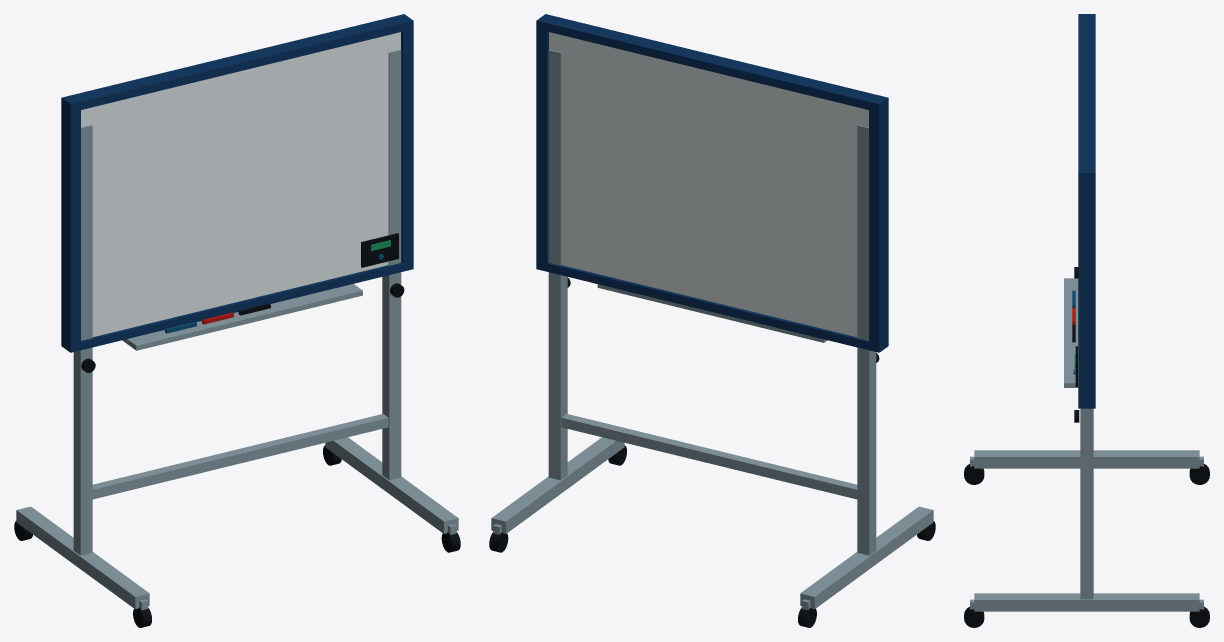
The model's file is electronic_whiteboard.dae.
3 renders of one model, left to right at view 1: azimuth 30°, elevation 25°; view 2: azimuth 150°, elevation 25°; view 3: azimuth 270°, elevation 25°, orthographic. The views are drawn at different scales.
Visible parts, largest first — view 1: writing_panel, stand_upright (×2), horizontal_frame (×2), side_frame (×2), stand_foot (×2), stand_crossbar, pen_tray, control_panel; view 2: writing_panel, stand_upright (×2), horizontal_frame (×2), side_frame (×2), stand_foot (×2), stand_crossbar, pen_tray; view 3: stand_foot (×2), side_frame, horizontal_frame, stand_upright, pen_tray.
Boxes of the visible parts, x1,y1,x2,y2 form: writing_panel: (81, 32, 400, 336); stand_upright (×2): (73, 49, 401, 555); horizontal_frame (×2): (61, 14, 413, 352); side_frame (×2): (61, 14, 413, 352); stand_foot (×2): (16, 437, 458, 609); stand_crossbar: (92, 414, 388, 499); pen_tray: (122, 284, 362, 350); control_panel: (361, 233, 398, 267); writing_panel: (549, 32, 868, 336); stand_upright (×2): (548, 49, 876, 555); horizontal_frame (×2): (536, 14, 888, 352); side_frame (×2): (536, 14, 888, 352); stand_foot (×2): (491, 437, 933, 609); stand_crossbar: (561, 414, 857, 499); pen_tray: (597, 284, 827, 342); stand_foot (×2): (974, 450, 1199, 611); side_frame: (1078, 168, 1095, 408); horizontal_frame: (1078, 14, 1095, 179); stand_upright: (1080, 408, 1093, 599); pen_tray: (1064, 278, 1078, 387).
Size of the model in its own units: 1300 by 850 by 1760.
